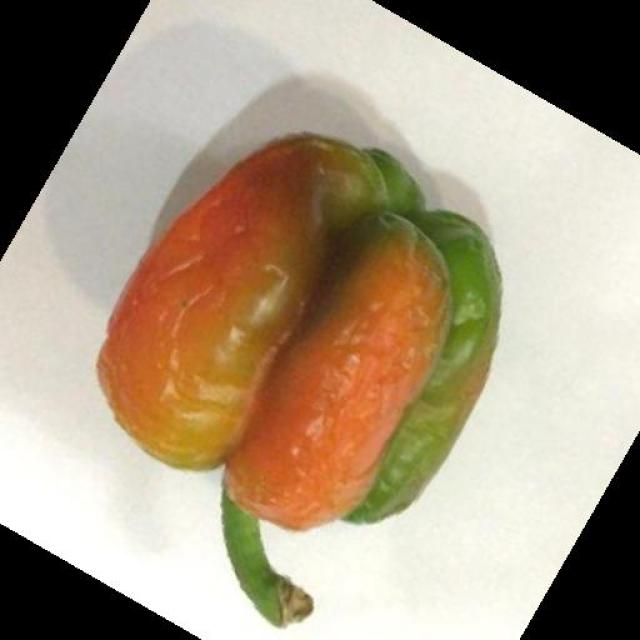Stale_Capsicum: (106, 99, 468, 587)
